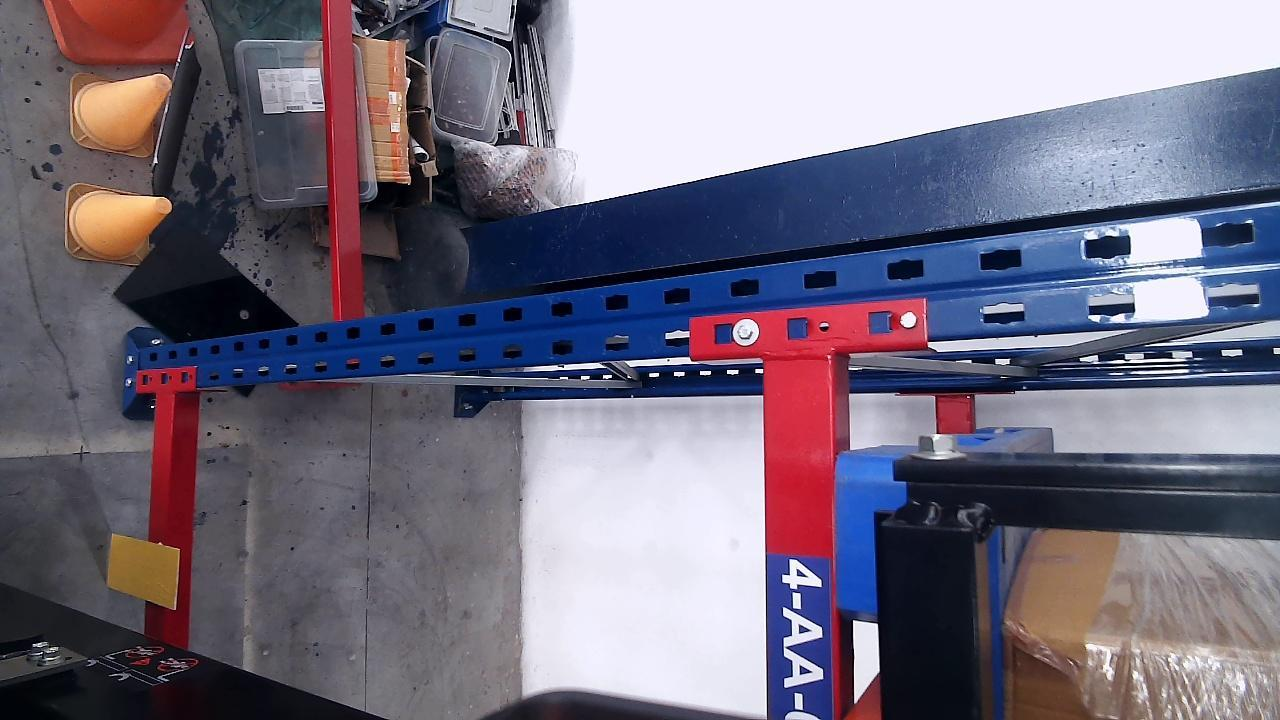h_rack: (761, 358, 845, 720), (145, 393, 174, 642)
orange_strip: (109, 536, 178, 606)
